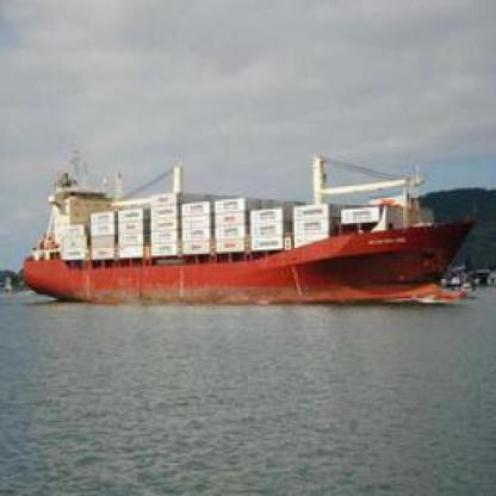Ship: (11, 177, 484, 313)
